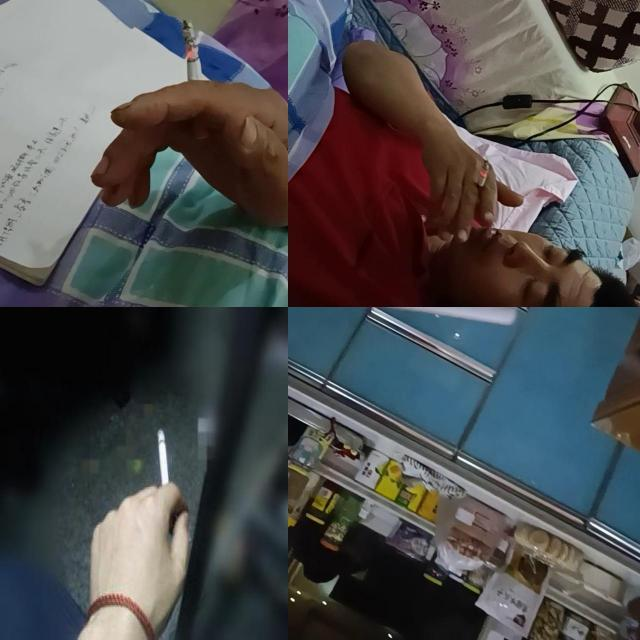cigarette: (288, 307, 518, 327), (182, 20, 210, 140), (150, 416, 174, 498), (475, 160, 491, 204)
